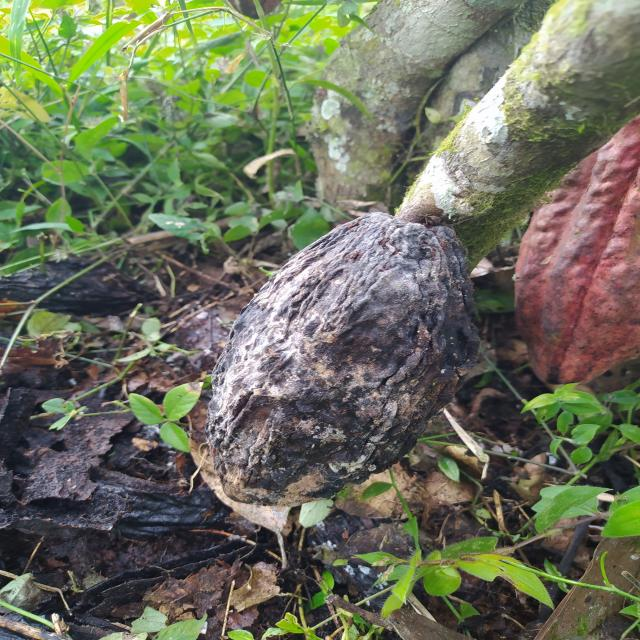Fitoftora: (206, 213, 481, 505)
Sana: (512, 119, 640, 383)
